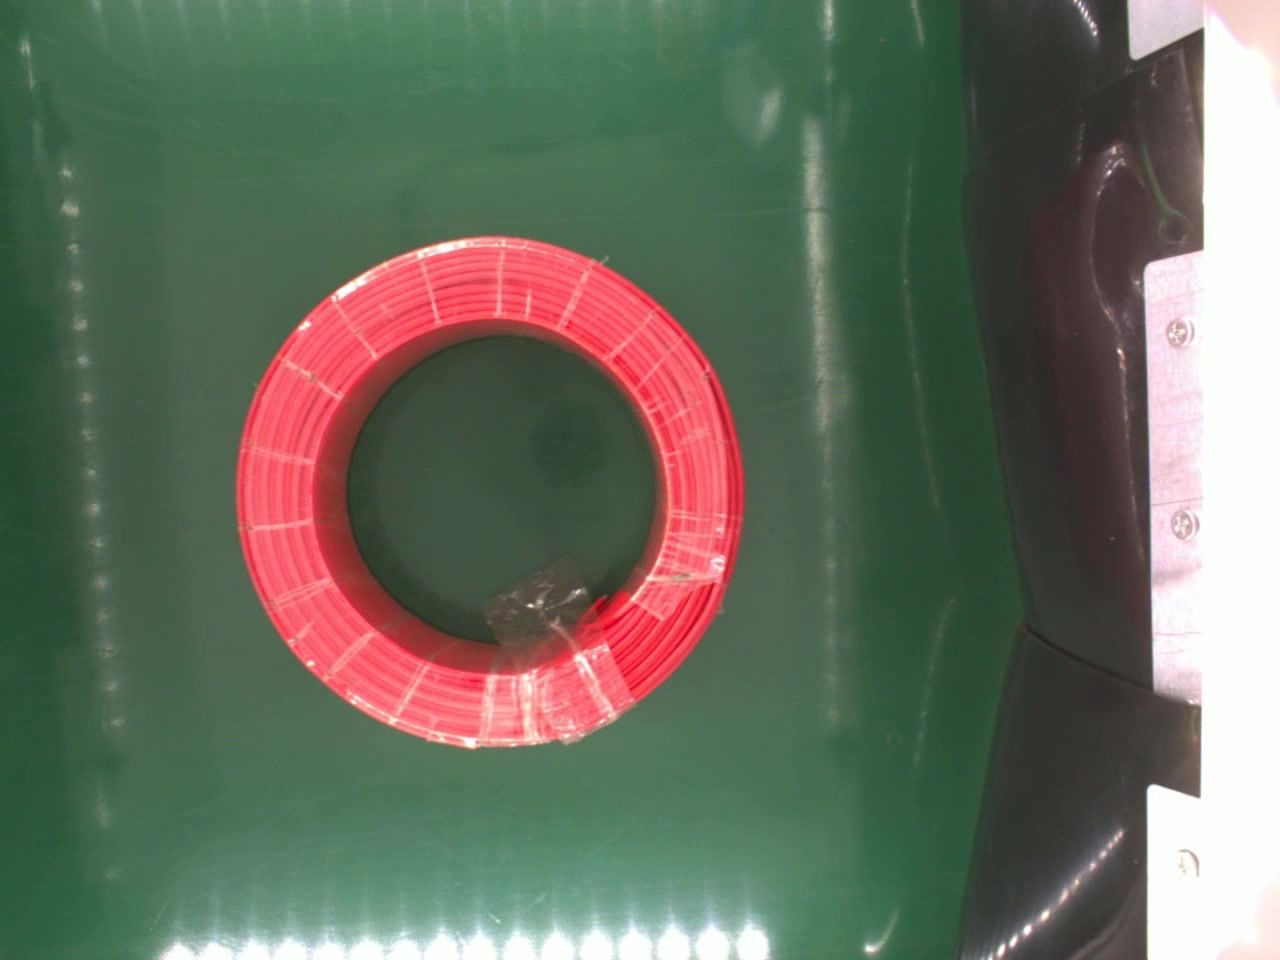red: (232, 234, 745, 748)
